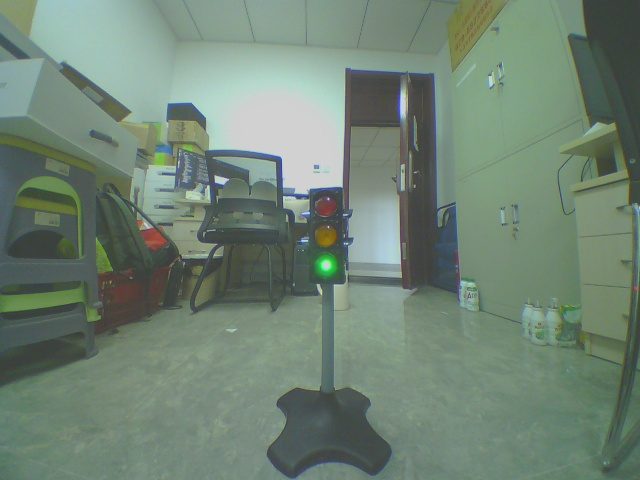Green: (300, 192, 355, 295)
